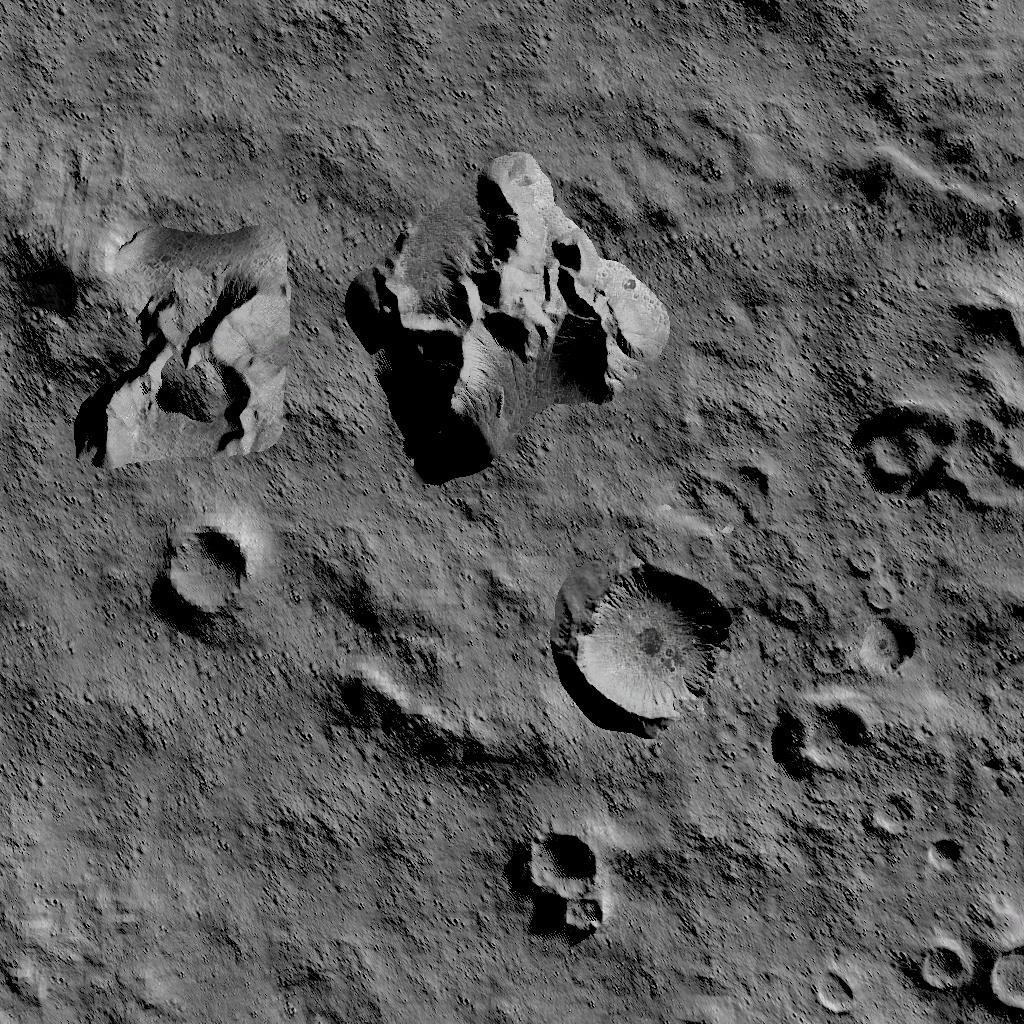Boulders: (342, 150, 672, 486), (21, 200, 296, 466)
Crater: (556, 559, 728, 734), (847, 399, 1024, 513), (517, 818, 618, 950), (898, 929, 1024, 1024), (157, 516, 256, 626), (770, 688, 874, 782), (836, 540, 902, 610), (854, 616, 916, 678), (801, 954, 856, 1013), (859, 790, 916, 833), (921, 838, 964, 872)
Plan surface: (0, 640, 354, 1024), (341, 4, 824, 142), (3, 0, 331, 186), (363, 764, 488, 1024), (3, 476, 149, 630)
